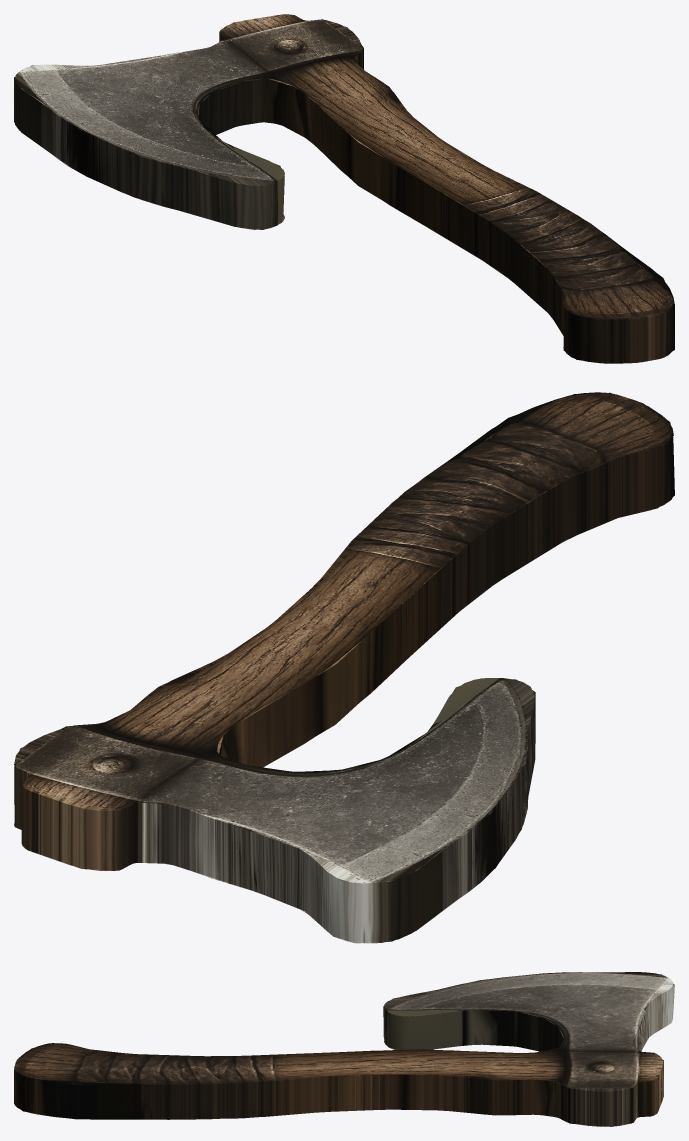
Rendered from Axe.glb.
3 renders of one model, top to bottom at view 1: azimuth 30°, elevation 25°; view 2: azimuth 150°, elevation 25°; view 3: azimuth 270°, elevation 25°, orthographic. The views are drawn at different scales.
Visible parts, largest first — view 1: OuterCurve; view 2: OuterCurve; view 3: OuterCurve.
Boxes of the visible parts, box(x1,y1,x2,y2) form: OuterCurve: box(14, 14, 674, 363); OuterCurve: box(14, 392, 674, 943); OuterCurve: box(14, 972, 674, 1126).
Size of the model in its own units: 5.88 by 0.8 by 13.69.
Materials: 1 (1 with a texture image).
